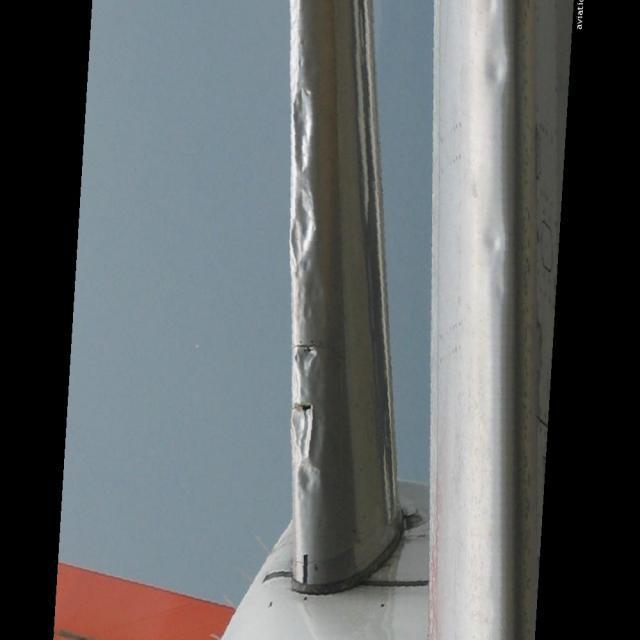dent: (287, 84, 327, 510), (472, 42, 518, 312)
